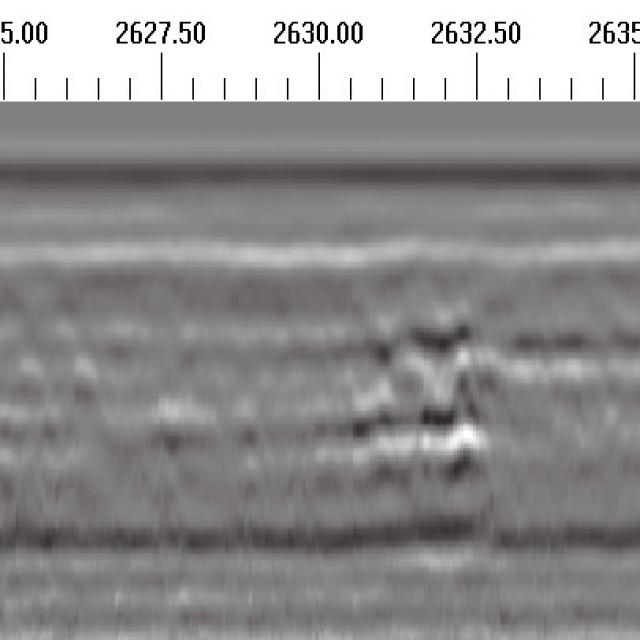loose: (337, 306, 509, 492)
